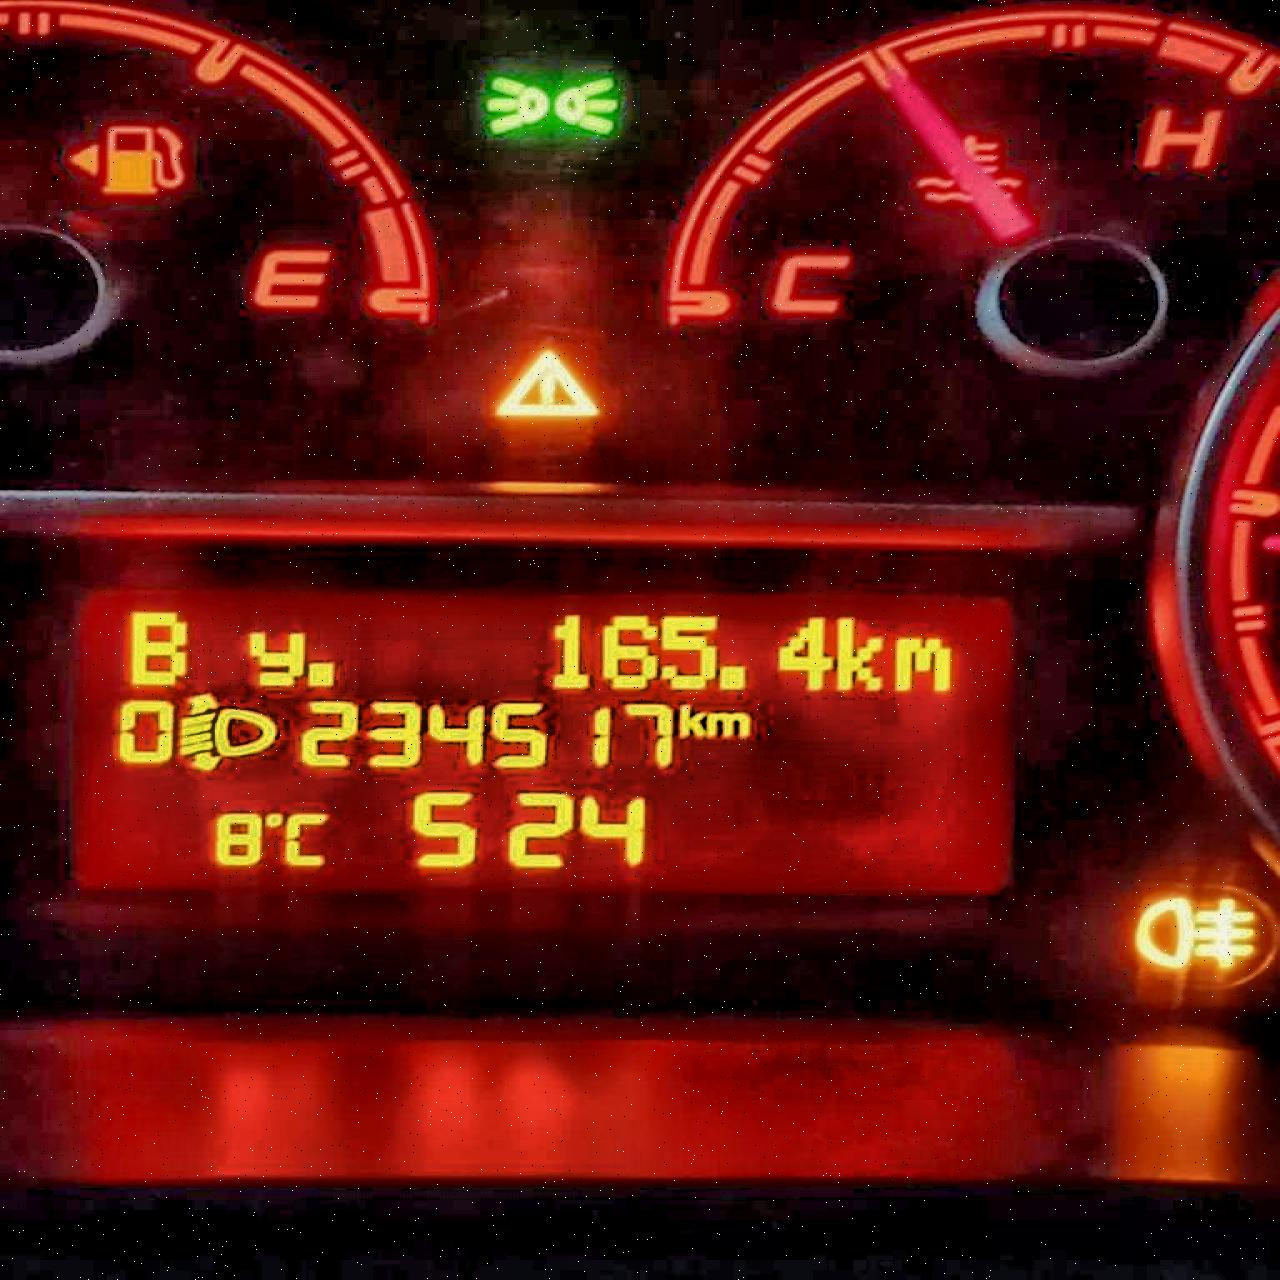-: (716, 659, 751, 695), (304, 656, 340, 688)
0: (111, 694, 176, 767)
1: (549, 607, 588, 693), (581, 700, 618, 770)
2: (503, 783, 577, 869), (300, 697, 359, 772)
3: (367, 695, 421, 770)
4: (578, 788, 652, 871), (775, 608, 830, 697), (425, 695, 485, 765)
5: (403, 788, 478, 872), (659, 610, 716, 692), (490, 696, 545, 769)
6: (597, 610, 656, 690)
7: (626, 700, 672, 770)
8: (209, 806, 265, 869)
X: (123, 608, 189, 686), (836, 613, 887, 695), (892, 633, 953, 694), (244, 627, 304, 685), (284, 810, 332, 869), (704, 708, 750, 738), (676, 700, 706, 737)
odometer: (60, 577, 1020, 905)
